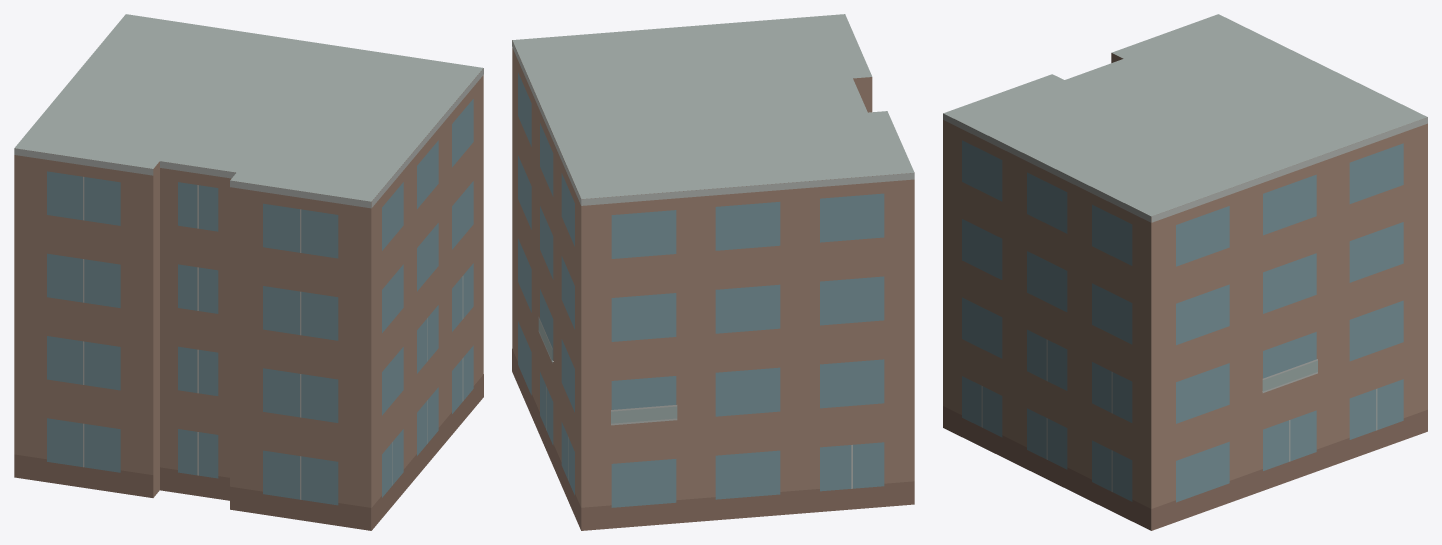
Rendered from survey-upis-32658902.glb.
3 views of the same model, side by side, from view 1: azimuth 30°, elevation 25°; view 2: azimuth 150°, elevation 25°; view 3: azimuth 270°, elevation 25° (orthographic). The views are drawn at different scales.
Visible parts, largest first — view 1: survey-upis-32658902.tmp; view 2: survey-upis-32658902.tmp; view 3: survey-upis-32658902.tmp.
Part boxes in pixels (x1,y1,x2,y2): survey-upis-32658902.tmp: (14, 14, 483, 530); survey-upis-32658902.tmp: (512, 14, 914, 530); survey-upis-32658902.tmp: (943, 14, 1427, 530).
Size of the model in its own units: 16.53 by 11.97 by 16.73.
